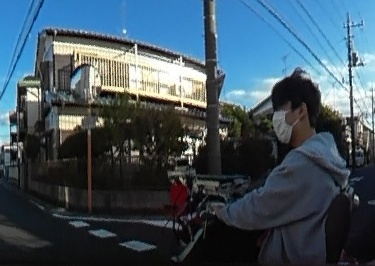person: (242, 73, 345, 266)
